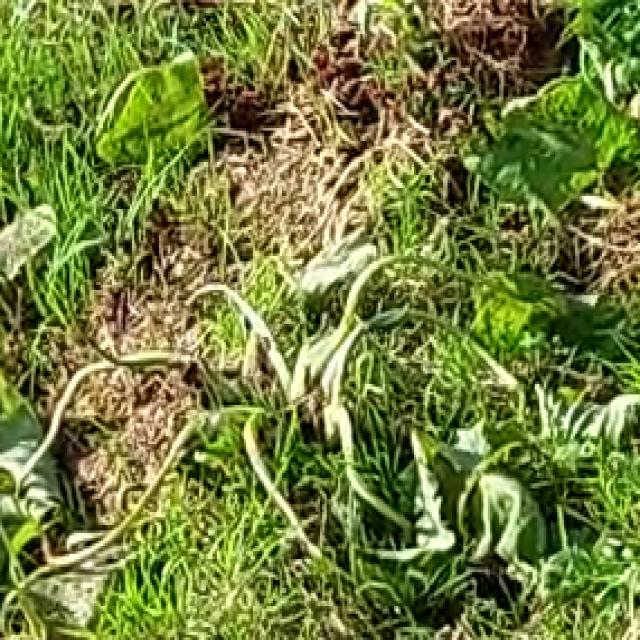organic waste: (6, 55, 608, 590)
